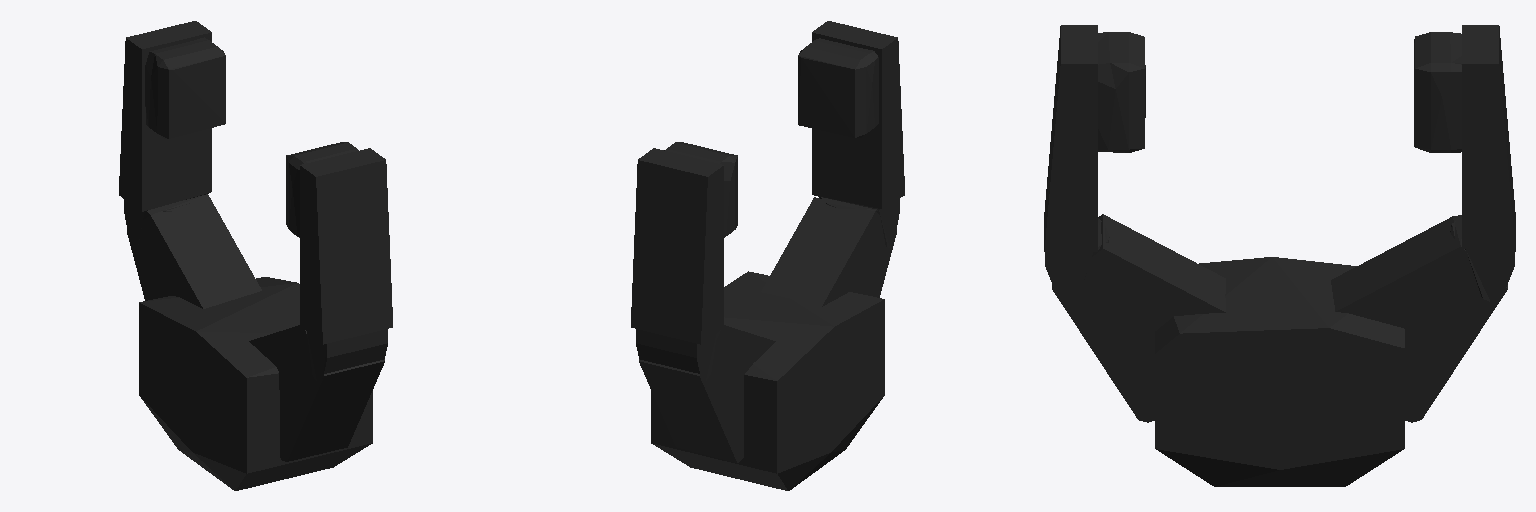
robot.urdf — rh_p12_rn_a:
<?xml version="1.0" ?>
<!-- =================================================================================== -->
<!-- |    This document was autogenerated by xacro from rh_p12_rn_a.xacro              | -->
<!-- |    EDITING THIS FILE BY HAND IS NOT RECOMMENDED                                 | -->
<!-- =================================================================================== -->
<robot name="rh_p12_rn_a">
  <!-- ros_control plugin -->
  <gazebo>
    <plugin filename="libgazebo_ros_control.so" name="gazebo_ros_control">
      <robotNamespace>/rh_p12_rn_a</robotNamespace>
      <robotSimType>gazebo_ros_control/DefaultRobotHWSim</robotSimType>
      <legacyModeNS>true</legacyModeNS>
    </plugin>
  </gazebo>
  <!-- World -->
  <gazebo reference="world">
  </gazebo>
  <!-- rh_p12_rn_base -->
  <gazebo reference="rh_p12_rn_base">
    <mu1>0.2</mu1>
    <mu2>0.2</mu2>
    <material>Gazebo/Grey</material>
  </gazebo>
  <!-- rh_p12_rn_r1 -->
  <gazebo reference="rh_p12_rn_r1">
    <mu1>0.2</mu1>
    <mu2>0.2</mu2>
    <material>Gazebo/Grey</material>
  </gazebo>
  <!-- rh_p12_rn_r2 -->
  <gazebo reference="rh_p12_rn_r_liaison">
    <mu1>0.2</mu1>
    <mu2>0.2</mu2>
    <material>Gazebo/Grey</material>
  </gazebo>
  <!-- rh_p12_rn_l1 -->
  <gazebo reference="rh_p12_rn_l1">
    <mu1>0.2</mu1>
    <mu2>0.2</mu2>
    <material>Gazebo/Grey</material>
  </gazebo>
  <!-- rh_p12_rn_l2 -->
  <gazebo reference="rh_p12_rn_l_liaison">
    <mu1>0.2</mu1>
    <mu2>0.2</mu2>
    <material>Gazebo/Grey</material>
  </gazebo>
  <material name="black">
    <color rgba="0.0 0.0 0.0 1.0"/>
  </material>
  <material name="blue">
    <color rgba="0.0 0.0 0.8 1.0"/>
  </material>
  <material name="green">
    <color rgba="0.0 0.8 0.0 1.0"/>
  </material>
  <material name="grey">
    <color rgba="0.2 0.2 0.2 1.0"/>
  </material>
  <material name="orange">
    <color rgba="1.0 0.4235294117647059 0.0392156862745098 1.0"/>
  </material>
  <material name="brown">
    <color rgba="0.8705882352941177 0.8117647058823529 0.7647058823529411 1.0"/>
  </material>
  <material name="red">
    <color rgba="0.8 0.0 0.0 1.0"/>
  </material>
  <material name="white">
    <color rgba="1.0 1.0 1.0 1.0"/>
  </material>
  <!-- Used for fixing robot to Gazebo 'link 1' -->
  <link name="world">
  </link>
  <joint name="world_fixed" type="fixed">
    <origin rpy="0 0 0" xyz="0 0 0"/>
    <parent link="world"/>
    <child link="rh_p12_rn_base"/>
  </joint>
  <!-- base -->
  <link name="rh_p12_rn_base">
    <collision>
      <origin rpy="0 0 0" xyz="0 0 0"/>
      <geometry>
        <mesh filename="package://rh_p12_rn_a_description/meshes/base_colision.stl" scale="0.001 0.001 0.001"/>
      </geometry>
    </collision>
    <visual>
      <origin rpy="0 0 0" xyz="0 0 0"/>
      <geometry>
        <mesh filename="package://rh_p12_rn_a_description/meshes/base_colision.stl" scale="0.001 0.001 0.001"/>
      </geometry>
      <material name="grey"/>
    </visual>
    <inertial>
      <origin rpy="0 0 0" xyz="0.000 0.000 0.032"/>
      <mass value="0.236"/>
      <!--<inertia ixx="0.00017" ixy="0.0" ixz="0.0" iyy="0.00011" iyz="0.0" izz="0.00017" />-->
      <inertia ixx="1.0" ixy="0.0" ixz="0.0" iyy="1.0" iyz="0.0" izz="1.0"/>
    </inertial>
  </link>
  <!-- Joint -->
  <joint name="rh_p12_rn_a" type="revolute">
    <parent link="rh_p12_rn_base"/>
    <child link="rh_p12_rn_r1"/>
    <origin rpy="0 0 0" xyz="0.0 0.008 0.048"/>
    <axis xyz="1 0 0"/>
    <limit effort="1000" lower="0.0" upper="1.1" velocity="6.5"/>
    <dynamics damping="0.7"/>
  </joint>
  <transmission name="tran_r1">
    <type>transmission_interface/SimpleTransmission</type>
    <joint name="rh_p12_rn_a">
      <hardwareInterface>hardware_interface/EffortJointInterface</hardwareInterface>
    </joint>
    <actuator name="motor_r1">
      <hardwareInterface>hardware_interface/EffortJointInterface</hardwareInterface>
      <mechanicalReduction>1</mechanicalReduction>
    </actuator>
  </transmission>
  <!-- rh_p12_rn_r1 -->
  <link name="rh_p12_rn_r1">
    <collision>
      <origin rpy="0 0 0" xyz="0 0 0"/>
      <geometry>
        <mesh filename="package://rh_p12_rn_a_description/meshes/r1_colision.stl" scale="0.001 0.001 0.001"/>
      </geometry>
    </collision>
    <visual>
      <origin rpy="0 0 0" xyz="0 0 0"/>
      <geometry>
        <mesh filename="package://rh_p12_rn_a_description/meshes/r1_colision.stl" scale="0.001 0.001 0.001"/>
      </geometry>
      <material name="grey"/>
    </visual>
    <inertial>
      <origin rpy="0 0 0" xyz="0.000 0.034 0.004"/>
      <mass value="0.068"/>
      <!--<inertia ixx="0.00004" ixy="0.0" ixz="0.0" iyy="0.00002" iyz="-0.00001" izz="0.00002" />-->
      <inertia ixx="1.0" ixy="0.0" ixz="0.0" iyy="1.0" iyz="0.0" izz="1.0"/>
    </inertial>
  </link>
  <!-- Right Joint 2 -->
  <joint name="rh_r_liaison" type="revolute">
    <parent link="rh_p12_rn_r1"/>
    <child link="rh_p12_rn_r_liaison"/>
    <origin rpy="0 0 3.1415927" xyz="0.0 0.0493634 0.0285"/>
    <axis xyz="1 0 0"/>
    <limit effort="1000" lower="0.0" upper="1.0" velocity="6.5"/>
    <dynamics damping="0.7"/>
  </joint>
  <transmission name="tran_r2">
    <type>transmission_interface/SimpleTransmission</type>
    <joint name="rh_r_liaison">
      <hardwareInterface>hardware_interface/EffortJointInterface</hardwareInterface>
    </joint>
    <actuator name="motor_r2">
      <hardwareInterface>hardware_interface/EffortJointInterface</hardwareInterface>
      <mechanicalReduction>1</mechanicalReduction>
    </actuator>
  </transmission>
  <!-- rh_p12_rn_r_liaison -->
  <link name="rh_p12_rn_r_liaison">
    <collision>
      <origin rpy="0 0 0" xyz="0 0 0"/>
      <geometry>
        <mesh filename="package://rh_p12_rn_a_description/meshes/liaison_colision.stl" scale="0.001 0.001 0.001"/>
      </geometry>
    </collision>
    <visual>
      <origin rpy="0 0 0" xyz="0 0 0"/>
      <geometry>
        <mesh filename="package://rh_p12_rn_a_description/meshes/liaison_colision.stl" scale="0.001 0.001 0.001"/>
      </geometry>
      <material name="grey"/>
    </visual>
    <inertial>
      <origin rpy="0 0 0" xyz="0.000 -0.006 0.011"/>
      <mass value="0.022"/>
      <!--<inertia ixx="0.0" ixy="0.0" ixz="0.0" iyy="0.00001" iyz="0.0" izz="0.0" />-->
      <inertia ixx="1.0" ixy="0.0" ixz="0.0" iyy="1.0" iyz="0.0" izz="1.0"/>
    </inertial>
  </link>
  <!-- Right Joint 2 -->
  <joint name="rh_r_liaison_to_support" type="fixed">
    <parent link="rh_p12_rn_r_liaison"/>
    <child link="rh_p12_rn_r_support"/>
    <origin rpy="-1.5707963 0.0 3.1415927" xyz="0.00000000085 0.007 -0.0067"/>
    <axis xyz="1 0 0"/>
    <limit effort="1000" lower="0.0" upper="1.0" velocity="6.5"/>
    <dynamics damping="0.7"/>
  </joint>
  <!-- rh_p12_rn_r_liaison -->
  <link name="rh_p12_rn_r_support">
    <collision>
      <origin rpy="0 0 0" xyz="0 0 0"/>
      <geometry>
        <mesh filename="package://rh_p12_rn_a_description/meshes/support_finger_colision.stl" scale="0.001 0.001 0.001"/>
      </geometry>
    </collision>
    <visual>
      <origin rpy="0 0 0" xyz="0 0 0"/>
      <geometry>
        <mesh filename="package://rh_p12_rn_a_description/meshes/support_finger_colision.stl" scale="0.001 0.001 0.001"/>
      </geometry>
      <material name="grey"/>
    </visual>
    <inertial>
      <origin rpy="0 0 0" xyz="0.000 -0.006 0.011"/>
      <mass value="0.022"/>
      <!--<inertia ixx="0.0" ixy="0.0" ixz="0.0" iyy="0.00001" iyz="0.0" izz="0.0" />-->
      <inertia ixx="1.0" ixy="0.0" ixz="0.0" iyy="1.0" iyz="0.0" izz="1.0"/>
    </inertial>
  </link>
  <!-- rh_p12_rn_r_sensor -->
  <link name="rh_p12_rn_r_sensor">
    <collision>
      <origin rpy="0 0 0" xyz="0 0 0"/>
      <geometry>
        <mesh filename="package://rh_p12_rn_a_description/meshes/gelsight_without_pad_colision.stl" scale="0.001 0.001 0.001"/>
      </geometry>
    </collision>
    <visual>
      <origin rpy="0 0 0" xyz="0 0 0"/>
      <geometry>
        <mesh filename="package://rh_p12_rn_a_description/meshes/gelsight_without_pad_colision.stl" scale="0.001 0.001 0.001"/>
      </geometry>
      <material name="grey"/>
    </visual>
    <inertial>
      <origin rpy="0 0 0" xyz="0.000 -0.006 0.011"/>
      <mass value="0.022"/>
      <!--<inertia ixx="0.0" ixy="0.0" ixz="0.0" iyy="0.00001" iyz="0.0" izz="0.0" />-->
      <inertia ixx="1.0" ixy="0.0" ixz="0.0" iyy="1.0" iyz="0.0" izz="1.0"/>
    </inertial>
  </link>
  <!-- Right Joint 2 -->
  <joint name="rh_r_support_to_sensor" type="fixed">
    <parent link="rh_p12_rn_r_support"/>
    <child link="rh_p12_rn_r_sensor"/>
    <origin rpy="-1.5707963 0.0 1.5707963" xyz="0.00000000011 -0.060 0.012"/>
  </joint>
  <!-- rh_p12_rn_r_pad -->
  <link name="rh_p12_rn_r_pad">
    <fem>
      <origin rpy="0.0 0.0 0.0" xyz="0.0 0.0 0.0"/>
      <density value="1e3"/>
      <youngs value="2e5"/>
      <poissons value="0.3"/>
      <damping value="0.0"/>
      <attachDistance value="0.01" />
      <tetmesh filename="/opt/deformable_object_grasping/RH-P12-RN-A/rh_p12_rn_a_description/meshes/pad_no_bin_reduced.tet" />
    </fem>
  </link>
  <!-- Right Joint 2 -->
  <joint name="rh_r_sensor_to_pad" type="fixed">
    <parent link="rh_p12_rn_r_sensor"/>
    <child link="rh_p12_rn_r_pad"/>
    <origin rpy="0.0 0.0 0.0" xyz="0.0 0.0 0.0"/>
  </joint>
  <!-- Left Joint 1 -->
  <joint name="rh_l1" type="revolute">
    <parent link="rh_p12_rn_base"/>
    <child link="rh_p12_rn_l1"/>
    <origin rpy="0 0 0" xyz="0.0 -0.008 0.048"/>
    <axis xyz="-1 0 0"/>
    <limit effort="1000" lower="0.0" upper="1.1" velocity="6.5"/>
    <dynamics damping="0.7"/>
  </joint>
  <transmission name="tran_l1">
    <type>transmission_interface/SimpleTransmission</type>
    <joint name="rh_l1">
      <hardwareInterface>hardware_interface/EffortJointInterface</hardwareInterface>
    </joint>
    <actuator name="motor_l1">
      <hardwareInterface>hardware_interface/EffortJointInterface</hardwareInterface>
      <mechanicalReduction>1</mechanicalReduction>
    </actuator>
  </transmission>
  <!-- rh_p12_rn_l1 -->
  <link name="rh_p12_rn_l1">
    <collision>
      <origin rpy="0 0 0" xyz="0 0 0"/>
      <geometry>
        <mesh filename="package://rh_p12_rn_a_description/meshes/l1_colision.stl" scale="0.001 0.001 0.001"/>
      </geometry>
    </collision>
    <visual>
      <origin rpy="0 0 0" xyz="0 0 0"/>
      <geometry>
        <mesh filename="package://rh_p12_rn_a_description/meshes/l1_colision.stl" scale="0.001 0.001 0.001"/>
      </geometry>
      <material name="grey"/>
    </visual>
    <inertial>
      <origin rpy="0 0 0" xyz="0.000 -0.034 0.004"/>
      <mass value="0.068"/>
      <!--<inertia ixx="0.00004" ixy="0.0" ixz="0.0" iyy="0.00002" iyz="0.00001" izz="0.00002" />-->
      <inertia ixx="1.0" ixy="0.0" ixz="0.0" iyy="1.0" iyz="0.0" izz="1.0"/>
    </inertial>
  </link>
  <!-- Left Joint 2 -->
  <joint name="rh_l_liaison" type="revolute">
    <parent link="rh_p12_rn_l1"/>
    <child link="rh_p12_rn_l_liaison"/>
    <origin rpy="0 0 0" xyz="0.0 -0.0493634 0.0285"/>
    <axis xyz="1 0 0"/>
    <limit effort="1000" lower="0.0" upper="1.0" velocity="6.5"/>
    <dynamics damping="0.7"/>
  </joint>
  <transmission name="tran_l2">
    <type>transmission_interface/SimpleTransmission</type>
    <joint name="rh_l_liaison">
      <hardwareInterface>hardware_interface/EffortJointInterface</hardwareInterface>
    </joint>
    <actuator name="motor_l2">
      <hardwareInterface>hardware_interface/EffortJointInterface</hardwareInterface>
      <mechanicalReduction>1</mechanicalReduction>
    </actuator>
  </transmission>
  <!-- rh_p12_rn_l_liaison -->
  <link name="rh_p12_rn_l_liaison">
    <collision>
      <origin rpy="0 0 0" xyz="0 0 0"/>
      <geometry>
        <mesh filename="package://rh_p12_rn_a_description/meshes/liaison_colision.stl" scale="0.001 0.001 0.001"/>
      </geometry>
    </collision>
    <visual>
      <origin rpy="0 0 0" xyz="0 0 0"/>
      <geometry>
        <mesh filename="package://rh_p12_rn_a_description/meshes/liaison_colision.stl" scale="0.001 0.001 0.001"/>
      </geometry>
      <material name="grey"/>
    </visual>
    <inertial>
      <origin rpy="0 0 0" xyz="0.000 -0.006 0.011"/>
      <mass value="0.022"/>
      <!--<inertia ixx="0.0" ixy="0.0" ixz="0.0" iyy="0.00001" iyz="0.0" izz="0.0" />-->
      <inertia ixx="1.0" ixy="0.0" ixz="0.0" iyy="1.0" iyz="0.0" izz="1.0"/>
    </inertial>
  </link>
  <!-- Left Joint 2 -->
  <joint name="rh_l_liaison_to_support" type="fixed">
    <parent link="rh_p12_rn_l_liaison"/>
    <child link="rh_p12_rn_l_support"/>
    <origin rpy="-1.5707963 0.0 3.1415927" xyz="0.00000000085 0.007 -0.0067"/>
    <axis xyz="1 0 0"/>
    <limit effort="1000" lower="0.0" upper="1.0" velocity="6.5"/>
    <dynamics damping="0.7"/>
  </joint>
  <!-- rh_p12_rn_l_liaison -->
  <link name="rh_p12_rn_l_support">
    <collision>
      <origin rpy="0 0 0" xyz="0 0 0"/>
      <geometry>
        <mesh filename="package://rh_p12_rn_a_description/meshes/support_finger_colision.stl" scale="0.001 0.001 0.001"/>
      </geometry>
    </collision>
    <visual>
      <origin rpy="0 0 0" xyz="0 0 0"/>
      <geometry>
        <mesh filename="package://rh_p12_rn_a_description/meshes/support_finger_colision.stl" scale="0.001 0.001 0.001"/>
      </geometry>
      <material name="grey"/>
    </visual>
    <inertial>
      <origin rpy="0 0 0" xyz="0.000 -0.006 0.011"/>
      <mass value="0.022"/>
      <!--<inertia ixx="0.0" ixy="0.0" ixz="0.0" iyy="0.00001" iyz="0.0" izz="0.0" />-->
      <inertia ixx="1.0" ixy="0.0" ixz="0.0" iyy="1.0" iyz="0.0" izz="1.0"/>
    </inertial>
  </link>
  <!-- rh_p12_rn_l_liaison -->
  <link name="rh_p12_rn_l_sensor">
    <collision>
      <origin rpy="0 0 0" xyz="0 0 0"/>
      <geometry>
        <mesh filename="package://rh_p12_rn_a_description/meshes/gelsight_without_pad_colision.stl" scale="0.001 0.001 0.001"/>
      </geometry>
    </collision>
    <visual>
      <origin rpy="0 0 0" xyz="0 0 0"/>
      <geometry>
        <mesh filename="package://rh_p12_rn_a_description/meshes/gelsight_without_pad_colision.stl" scale="0.001 0.001 0.001"/>
      </geometry>
      <material name="grey"/>
    </visual>
    <inertial>
      <origin rpy="0 0 0" xyz="0.000 -0.006 0.011"/>
      <mass value="0.022"/>
      <!--<inertia ixx="0.0" ixy="0.0" ixz="0.0" iyy="0.00001" iyz="0.0" izz="0.0" />-->
      <inertia ixx="1.0" ixy="0.0" ixz="0.0" iyy="1.0" iyz="0.0" izz="1.0"/>
    </inertial>
  </link>
  <!-- Left Joint 2 -->
  <joint name="rh_l_support_to_sensor" type="fixed">
    <parent link="rh_p12_rn_l_support"/>
    <child link="rh_p12_rn_l_sensor"/>
    <origin rpy="-1.5707963 0.0 1.5707963" xyz="0.00000000011 -0.060 0.012"/>
  </joint>
  <!-- rh_p12_rn_r_pad -->
  <link name="rh_p12_rn_l_pad">
    <fem>
      <origin rpy="0.0 0.0 0.0" xyz="0.0 0.0 0.0"/>
      <density value="1e3"/>
      <youngs value="2e5"/>
      <poissons value="0.3"/>
      <damping value="0.0"/>
      <attachDistance value="0.01" />
      <tetmesh filename="/opt/deformable_object_grasping/RH-P12-RN-A/rh_p12_rn_a_description/meshes/pad_no_bin_reduced.tet" />
    </fem>
  </link>
  
  <!-- Left Joint 2 -->
  <joint name="rh_l_sensor_to_pad" type="fixed">
    <parent link="rh_p12_rn_l_sensor"/>
    <child link="rh_p12_rn_l_pad"/>
    <origin rpy="0.0 0.0 0.0" xyz="0.0 0.0 0.0"/>
  </joint>
</robot>

--- Render facts (derived) ---
3 views of the same robot in one strip: view 1: azimuth 30°, elevation 25°; view 2: azimuth 150°, elevation 25°; view 3: azimuth 270°, elevation 25° (orthographic).
Robot: rh_p12_rn_a — 12 links, 11 joints (4 revolute, 7 fixed); root link world; default pose: every joint at zero.
Links seen in each view (by area): view 1: rh_p12_rn_base, rh_p12_rn_l_support, rh_p12_rn_r1, rh_p12_rn_r_support, rh_p12_rn_l1, rh_p12_rn_r_sensor, rh_p12_rn_l_liaison, rh_p12_rn_l_sensor, rh_p12_rn_r_liaison; view 2: rh_p12_rn_base, rh_p12_rn_r_support, rh_p12_rn_l_support, rh_p12_rn_l1, rh_p12_rn_r1, rh_p12_rn_l_sensor, rh_p12_rn_r_liaison, rh_p12_rn_r_sensor, rh_p12_rn_l_liaison; view 3: rh_p12_rn_base, rh_p12_rn_r1, rh_p12_rn_l1, rh_p12_rn_l_support, rh_p12_rn_r_support, rh_p12_rn_r_sensor, rh_p12_rn_l_sensor, rh_p12_rn_l_liaison, rh_p12_rn_r_liaison.
Boxes of the visible links, x1,y1,x2,y2 form: rh_p12_rn_base: (139,277,372,490); rh_p12_rn_l_support: (300,148,392,344); rh_p12_rn_r1: (127,194,261,308); rh_p12_rn_r_support: (119,21,211,211); rh_p12_rn_l1: (249,325,384,461); rh_p12_rn_r_sensor: (145,37,225,138); rh_p12_rn_l_liaison: (307,329,387,380); rh_p12_rn_l_sensor: (286,142,358,237); rh_p12_rn_r_liaison: (124,199,193,245); rh_p12_rn_base: (651,271,884,490); rh_p12_rn_r_support: (631,148,723,344); rh_p12_rn_l_support: (812,21,904,209); rh_p12_rn_l1: (761,197,896,306); rh_p12_rn_r1: (639,325,775,462); rh_p12_rn_l_sensor: (798,38,878,137); rh_p12_rn_r_liaison: (636,329,716,380); rh_p12_rn_r_sensor: (664,142,737,237); rh_p12_rn_l_liaison: (818,196,899,247); rh_p12_rn_base: (1155,257,1404,486); rh_p12_rn_r1: (1331,215,1507,422); rh_p12_rn_l1: (1052,214,1225,422); rh_p12_rn_l_support: (1044,25,1097,251); rh_p12_rn_r_support: (1462,25,1515,251); rh_p12_rn_r_sensor: (1414,32,1461,152); rh_p12_rn_l_sensor: (1098,32,1145,152); rh_p12_rn_l_liaison: (1045,218,1109,300); rh_p12_rn_r_liaison: (1450,221,1514,301).
Bounding box of the posed robot: 0.054 × 0.1511 × 0.1468 m (x, y, z).
9 mesh visuals loaded from 6 distinct referenced files (1 binary STL, 5 ASCII STL).
